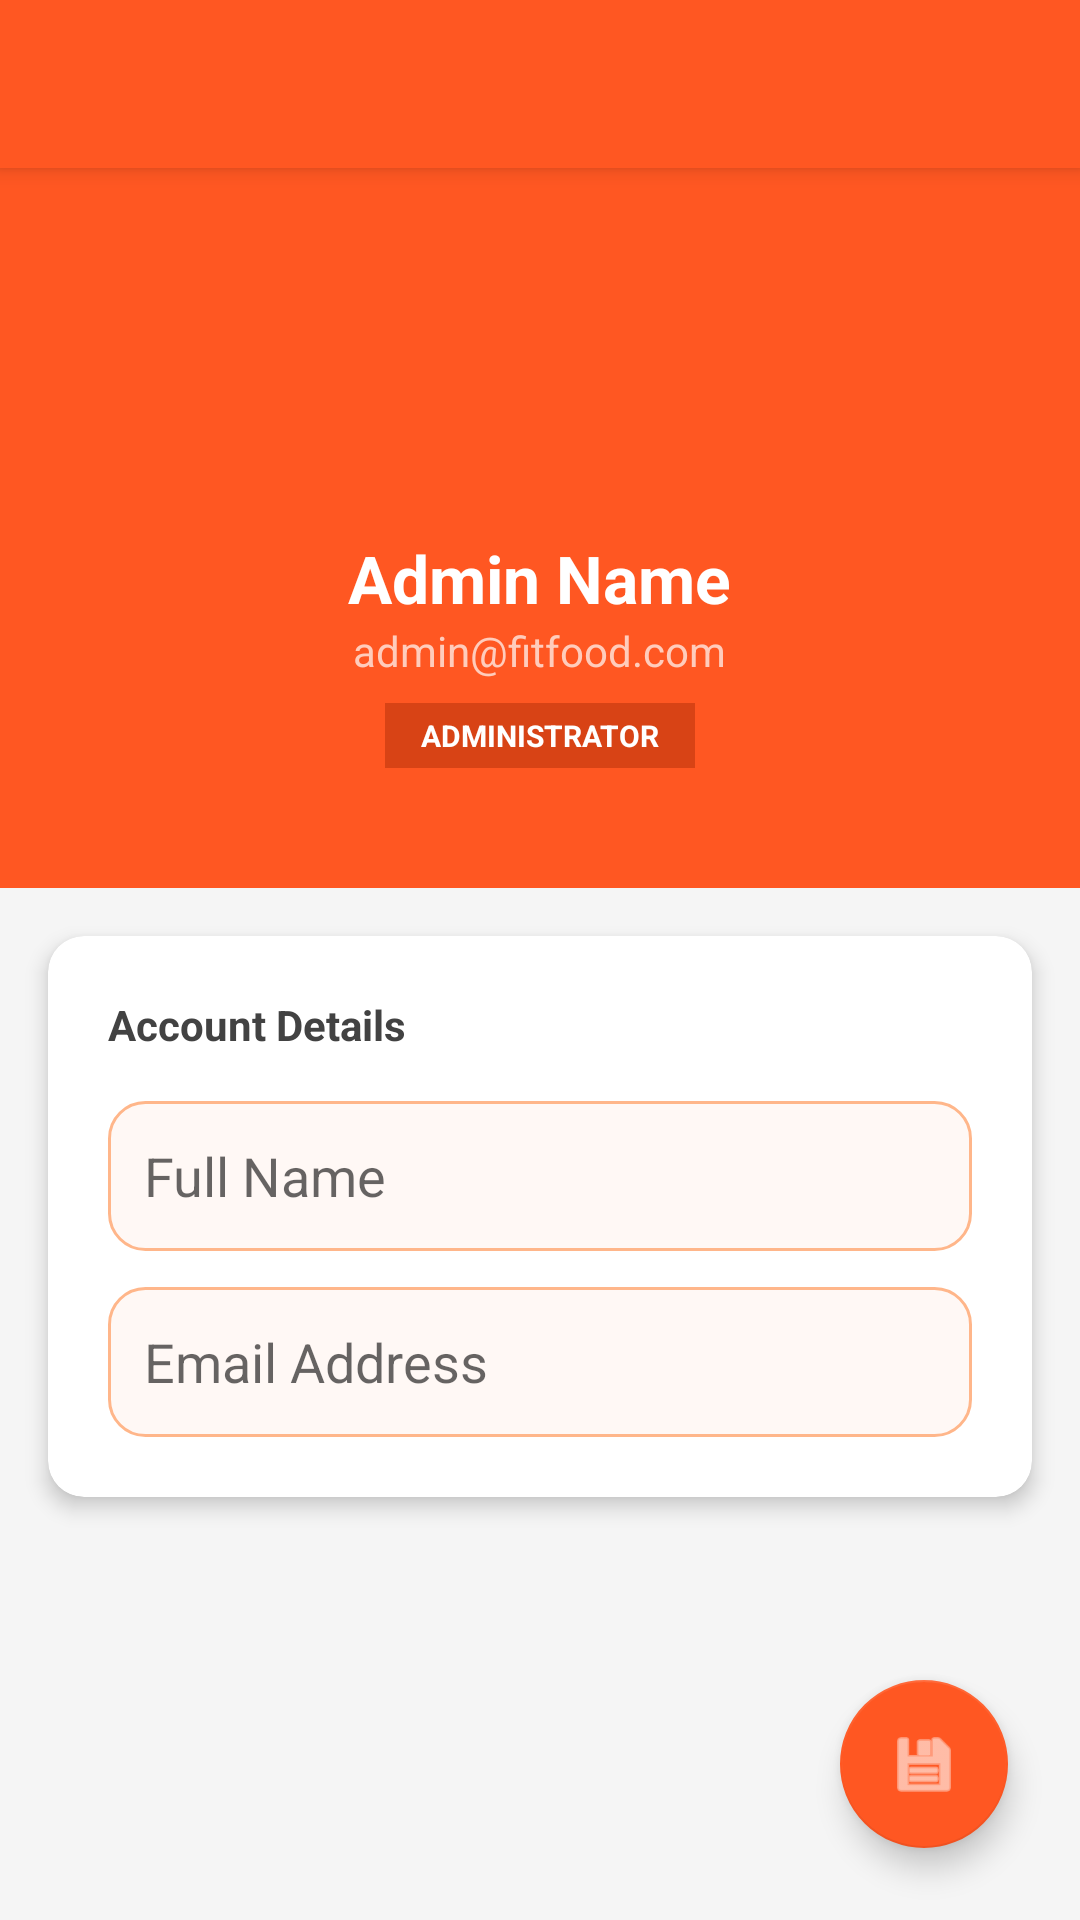

Icons on this 1080w x 1920h Android screen, each with the point to tap as (x,y):
save: (924,1764)
